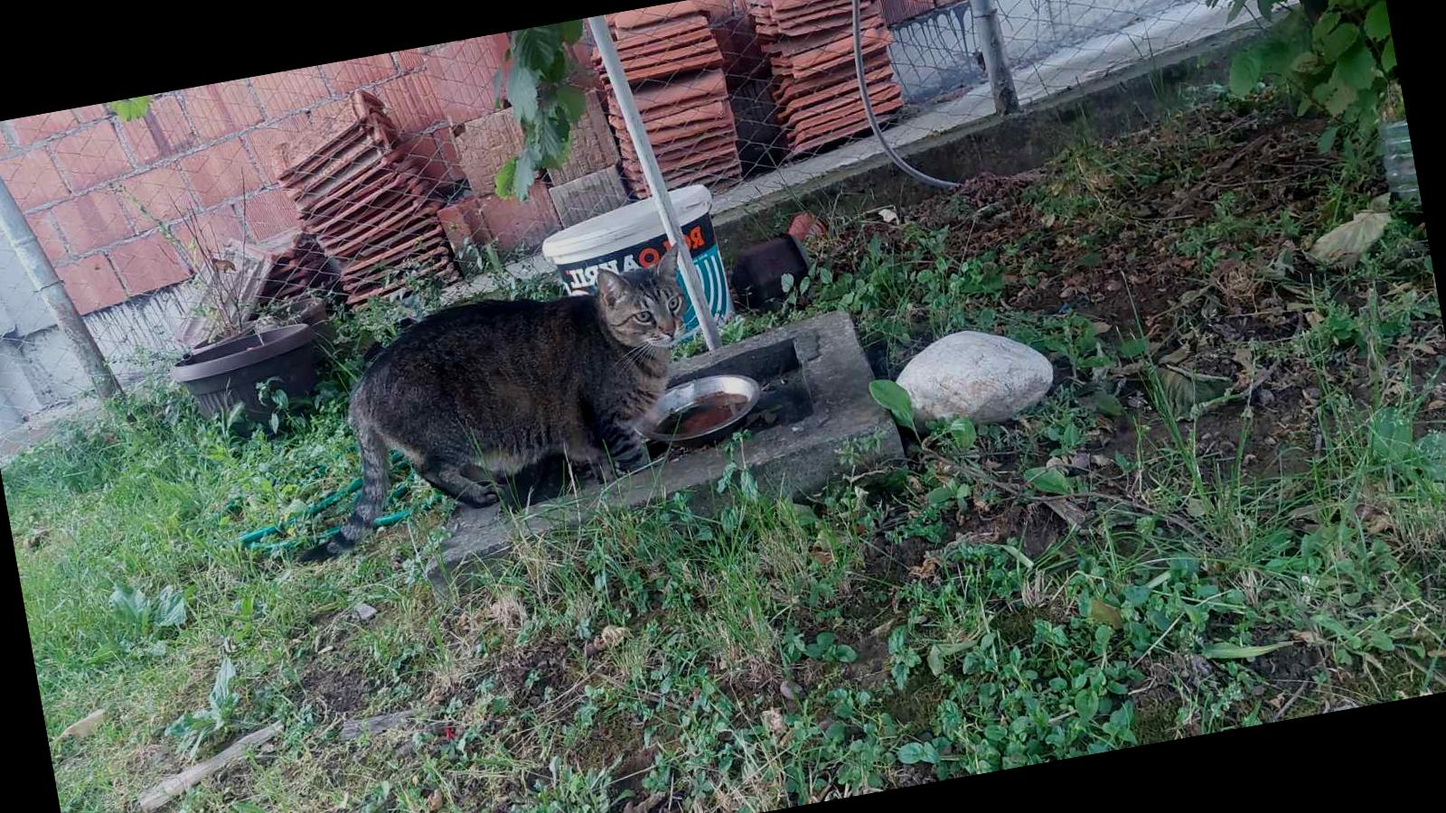macka: (255, 243, 722, 565)
